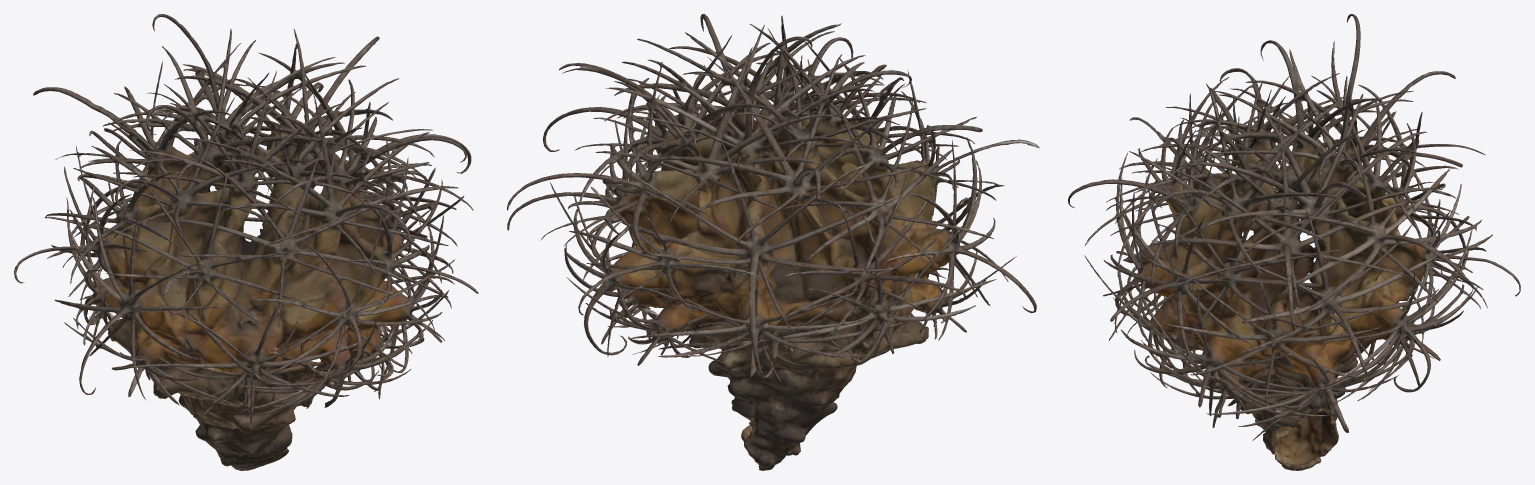
The picture shows the model from 3 angles, left to right: view 1: azimuth 30°, elevation 25°; view 2: azimuth 150°, elevation 25°; view 3: azimuth 270°, elevation 25°; orthographic projection. The views are drawn at different scales.
Parts seen in each view (by area): view 1: Ferocactus_wislizeni_-Engelm--_Britton_-_Rose-unwrapped-webm; view 2: Ferocactus_wislizeni_-Engelm--_Britton_-_Rose-unwrapped-webm; view 3: Ferocactus_wislizeni_-Engelm--_Britton_-_Rose-unwrapped-webm.
Boxes of the visible parts, left/top/right/bottom form: Ferocactus_wislizeni_-Engelm--_Britton_-_Rose-unwrapped-webm: left=14, top=14, right=478, bottom=470; Ferocactus_wislizeni_-Engelm--_Britton_-_Rose-unwrapped-webm: left=507, top=14, right=1039, bottom=470; Ferocactus_wislizeni_-Engelm--_Britton_-_Rose-unwrapped-webm: left=1068, top=14, right=1520, bottom=470.
Bounding box in the file's own units: 7327 × 7274 × 7013.
1 material, 1 textured.
